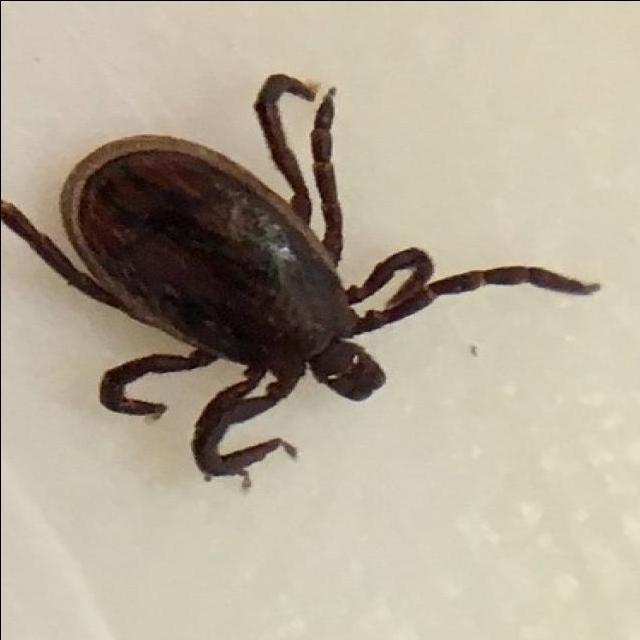Ixodes Ricinus-M: (0, 70, 601, 488)
